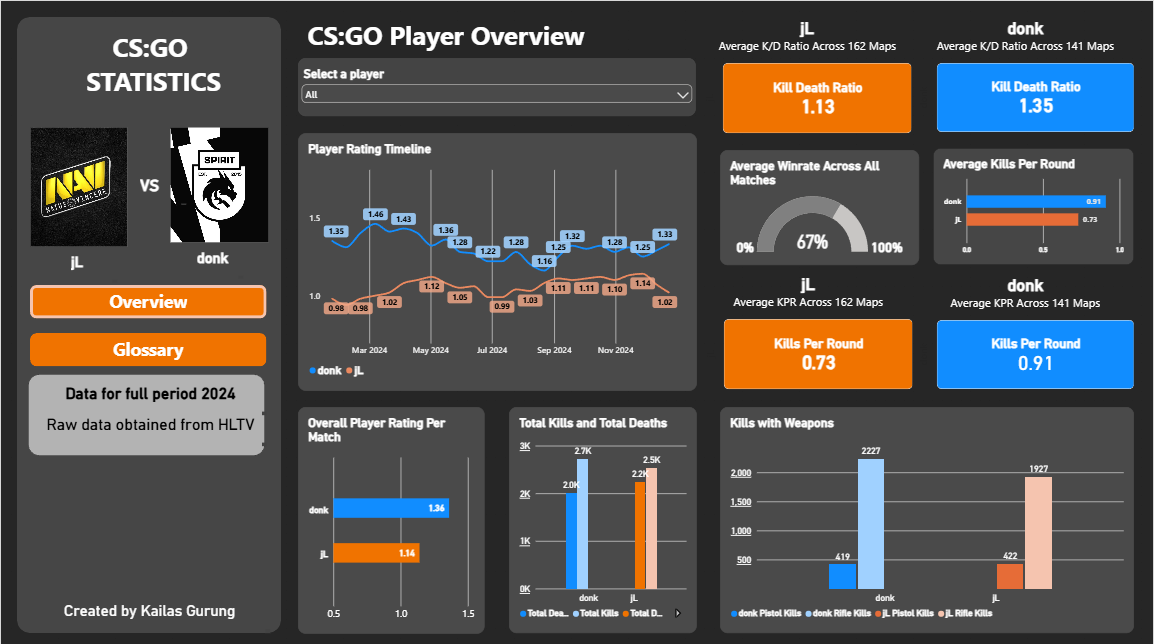

What the dashboard file says about the page in this screenshot:
{"tool":"powerbi","page":{"name":"Overview","canvas":[1920,1080],"ordinal":0},"visuals":[{"type":"shape","box":[26.7,26.7,440,1026.7],"z":0},{"type":"textbox","box":[53.3,46.7,401.7,145],"z":1000},{"type":"actionButton","box":[48.3,473.1,394.3,55.7],"z":2000},{"type":"actionButton","box":[48.3,553.3,394.3,55.7],"z":3000},{"type":"textbox","box":[495,26.7,492.9,62.9],"z":4000},{"type":"slicer","fields":{"Values":["Player Statistics.PLAYER_NAME"]},"box":[495.6,95.6,663.3,96.7],"z":5000},{"type":"clusteredBarChart","title":"Overall Player Rating Per Match","fields":{"Category":["Player Statistics.PLAYER_NAME"],"Y":["Avg(Player Statistics.RATING_2_1)"]},"box":[495,676.2,311.2,377.5],"z":6000},{"type":"lineChart","title":"Player Rating Timeline","fields":{"Category":["Sheet1.DATE"],"Series":["Sheet1.PLAYER_NAME"],"Y":["Sum(Sheet1.RATING)"]},"box":[495,220,665,430],"z":7000},{"type":"gauge","title":"Average Winrate Across All Matches ","fields":{"Y":["Avg(Player Statistics.WINRATE)"]},"box":[1198.3,248.3,331.7,191.7],"z":8000},{"type":"image","box":[48.3,210,163.3,200],"z":9000},{"type":"image","box":[281.7,210,165,193.3],"z":10000},{"type":"cardVisual","title":"jL","fields":{"Data":["Sum(Player Statistics.KILL_DEATH_RATIO)"],"Rows":["Player Statistics.PLAYER_NAME"]},"box":[1170,8.3,347.8,212.2],"z":11000},{"type":"cardVisual","title":"donk","fields":{"Data":["Sum(Player Statistics.KILL_DEATH_RATIO)"],"Rows":["Player Statistics.PLAYER_NAME"]},"box":[1526.7,8.3,361.2,210],"z":12000},{"type":"clusteredColumnChart","title":"Total Kills and Total Deaths","fields":{"Category":["Player Statistics.PLAYER_NAME"],"Y":["Player Rating Timeline.donk Total Deaths","Player Rating Timeline.donk Total Kills","Player Rating Timeline.jL Total Deaths","Player Rating Timeline.jL Total Kills"]},"box":[846.7,676.7,313.3,376.7],"z":13000},{"type":"clusteredBarChart","title":"Average Kills Per Round","fields":{"Category":["Player Statistics.PLAYER_NAME"],"Y":["Sum(Player Statistics.KILLS_PER_ROUND)"]},"box":[1553.3,245,335,195],"z":14000},{"type":"cardVisual","title":"jL","fields":{"Data":["Sum(Player Statistics.KILLS_PER_ROUND)"],"Rows":["Player Statistics.PLAYER_NAME"]},"box":[1171.7,435,347.8,212.2],"z":15000},{"type":"cardVisual","title":"donk","fields":{"Data":["Sum(Player Statistics.KILLS_PER_ROUND)"],"Rows":["Player Statistics.PLAYER_NAME"]},"box":[1526.7,436.7,361.2,210],"z":16000},{"type":"clusteredColumnChart","title":"Kills with Weapons","fields":{"Category":["Player Statistics.PLAYER_NAME"],"Y":["Player Rating Timeline.donk Pistol Kills","Player Rating Timeline.donk Rifle Kills","Player Rating Timeline.jL Pistol Kills","Player Rating Timeline.jL Rifle Kills"]},"box":[1198.3,676.7,690,376.7],"z":17000},{"type":"textbox","title":"VS","box":[231.7,291.7,76.7,48.3],"z":18000},{"type":"shape","box":[45,621.7,395,136.7],"z":19000},{"type":"textbox","title":"Data for full period 2024","box":[55,638.3,388.3,51.7],"z":20000},{"type":"textbox","title":"Raw data obtained from HLTV","box":[55,690,388.3,51.7],"z":21000},{"type":"textbox","title":"Created by Kailas Gurung","box":[46.7,1001.7,401.7,51.7],"z":22000},{"type":"textbox","title":"jL","box":[116.7,421.7,76.7,48.3],"z":23000},{"type":"textbox","title":"donk","box":[326.7,415,76.7,48.3],"z":24000}]}

Visuals, with their boxes in screenshot pixels (x1, y1, x2, y2), scaled from the page's 1920x1080 canvas onto the 1154x644 screenshot:
shape: region(16, 16, 281, 628)
textbox: region(32, 28, 273, 114)
actionButton: region(29, 282, 266, 315)
actionButton: region(29, 330, 266, 363)
textbox: region(298, 16, 594, 53)
slicer - Player Statistics.PLAYER_NAME: region(298, 57, 697, 115)
"Overall Player Rating Per Match" clusteredBarChart: region(298, 403, 485, 628)
"Player Rating Timeline" lineChart: region(298, 131, 697, 388)
"Average Winrate Across All Matches " gauge: region(720, 148, 920, 262)
image: region(29, 125, 127, 244)
image: region(169, 125, 268, 240)
"jL" cardVisual: region(703, 5, 912, 131)
"donk" cardVisual: region(918, 5, 1135, 130)
"Total Kills and Total Deaths" clusteredColumnChart: region(509, 404, 697, 628)
"Average Kills Per Round" clusteredBarChart: region(934, 146, 1135, 262)
"jL" cardVisual: region(704, 259, 913, 386)
"donk" cardVisual: region(918, 260, 1135, 386)
"Kills with Weapons" clusteredColumnChart: region(720, 404, 1135, 628)
"VS" textbox: region(139, 174, 185, 203)
shape: region(27, 371, 264, 452)
"Data for full period 2024" textbox: region(33, 381, 266, 411)
"Raw data obtained from HLTV" textbox: region(33, 411, 266, 442)
"Created by Kailas Gurung" textbox: region(28, 597, 270, 628)
"jL" textbox: region(70, 251, 116, 280)
"donk" textbox: region(196, 247, 242, 276)
